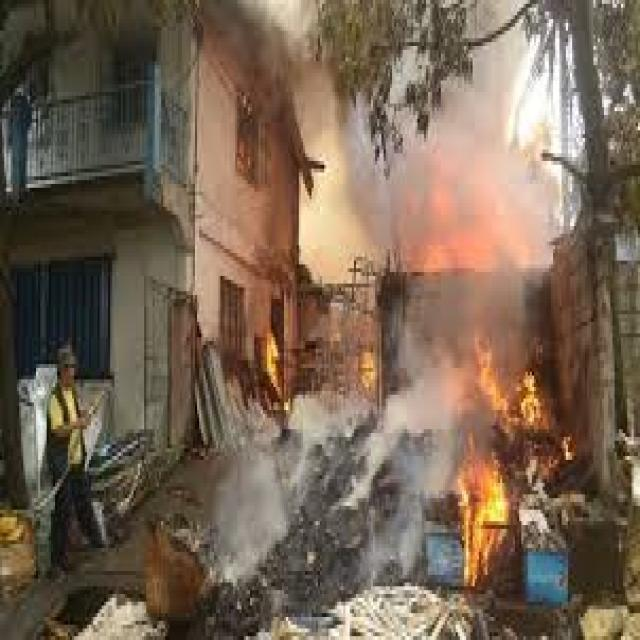Fire: (443, 340, 551, 604)
Smoke: (432, 73, 558, 287)
